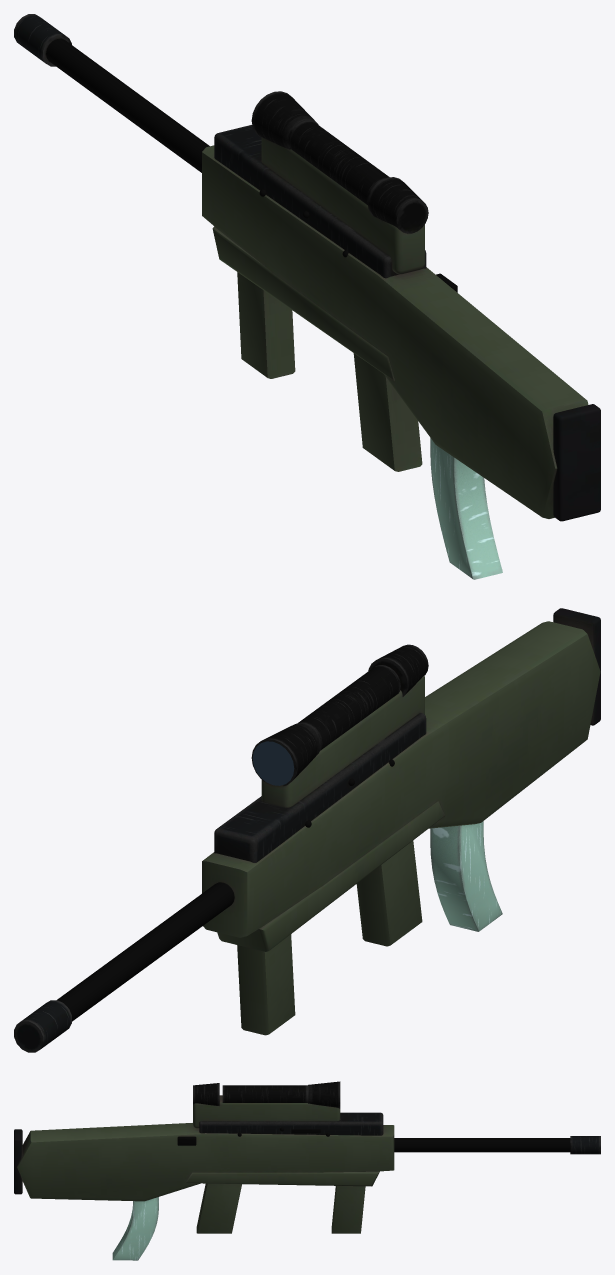
File: aug.glb
The picture shows the model from 3 angles, top to bottom: view 1: azimuth 30°, elevation 25°; view 2: azimuth 150°, elevation 25°; view 3: azimuth 270°, elevation 25°; orthographic projection. The views are drawn at different scales.
Parts seen in each view (by area): view 1: body_furniture, body_receiver, body_metal, mag_metal; view 2: body_furniture, body_receiver, body_metal, mag_metal, aug; view 3: body_furniture, body_receiver, body_metal, mag_metal.
Boxes of the visible parts, bbox=[...] form: body_furniture: bbox=[202, 137, 588, 518]; body_receiver: bbox=[14, 14, 428, 278]; body_metal: bbox=[46, 38, 600, 521]; mag_metal: bbox=[430, 438, 502, 579]; body_furniture: bbox=[202, 621, 600, 1035]; body_receiver: bbox=[14, 644, 428, 1052]; body_metal: bbox=[57, 608, 600, 1021]; mag_metal: bbox=[430, 821, 502, 931]; aug: bbox=[252, 741, 294, 785]; body_furniture: bbox=[17, 1095, 394, 1233]; body_receiver: bbox=[193, 1081, 600, 1154]; body_metal: bbox=[14, 1127, 570, 1194]; mag_metal: bbox=[112, 1197, 158, 1260].
Bounding box in the file's own units: 0.057 × 0.3134 × 0.957.
Materials: 5 (4 with a texture image).
